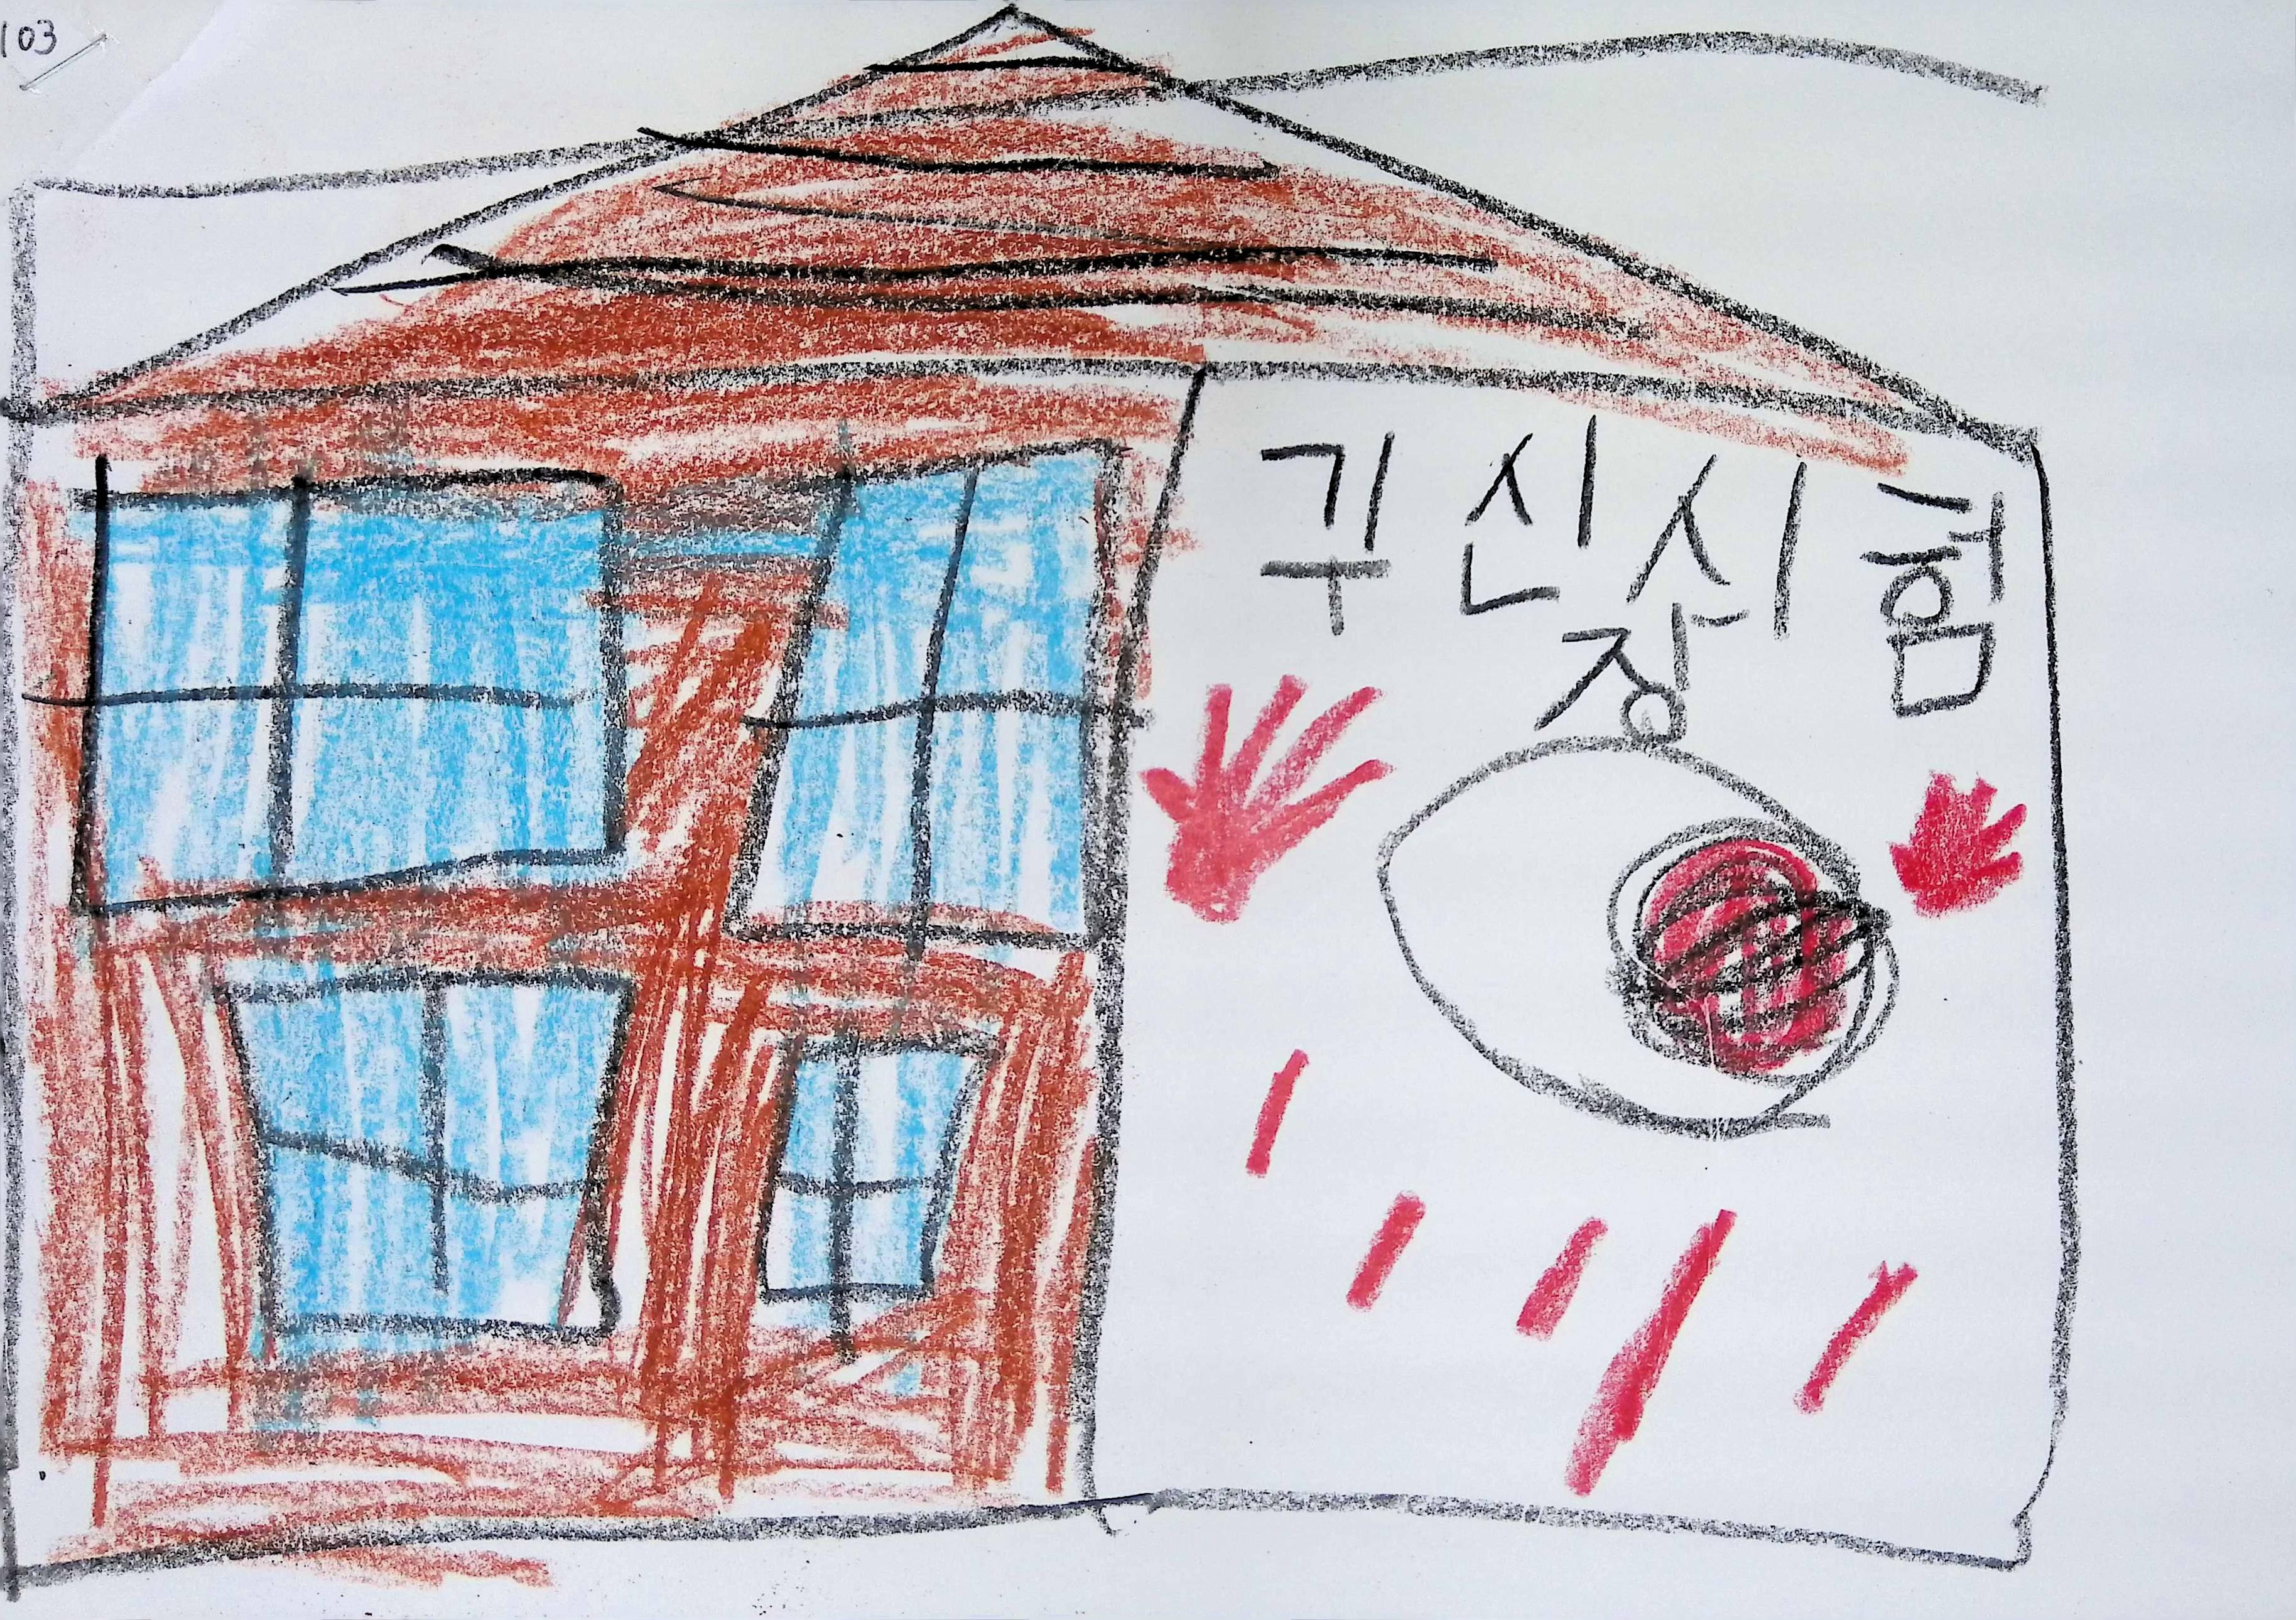roof: (0, 0, 2045, 447)
wall: (0, 368, 2079, 1601)
window: (79, 480, 615, 905), (747, 452, 1099, 934), (228, 973, 622, 1357), (762, 1041, 974, 1313)
